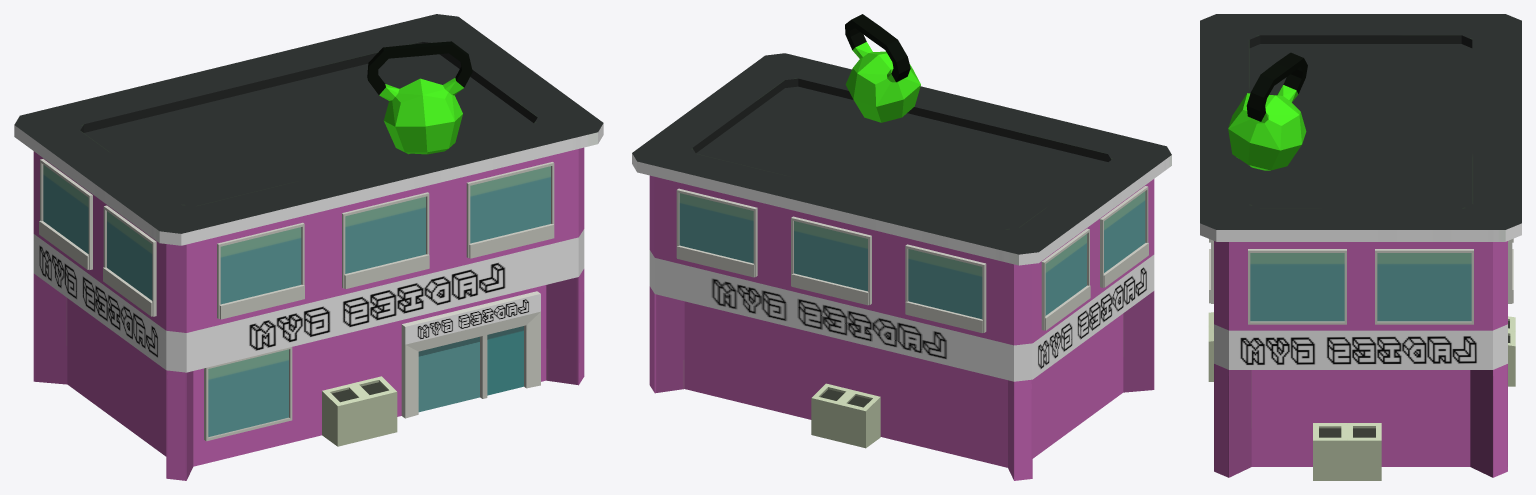
File: Ladies Gym.fbx
The picture shows the model from 3 angles, left to right: view 1: azimuth 30°, elevation 25°; view 2: azimuth 150°, elevation 25°; view 3: azimuth 270°, elevation 25°; orthographic projection. The views are drawn at different scales.
Visible parts, largest first — view 1: Ladies Gym; view 2: Ladies Gym; view 3: Ladies Gym.
Part boxes in pixels (x1,y1,x2,y2): Ladies Gym: (14, 14, 603, 480); Ladies Gym: (632, 14, 1171, 480); Ladies Gym: (1200, 14, 1521, 480).
Bounding box in the file's own units: 4.98 × 3.73 × 3.14.
